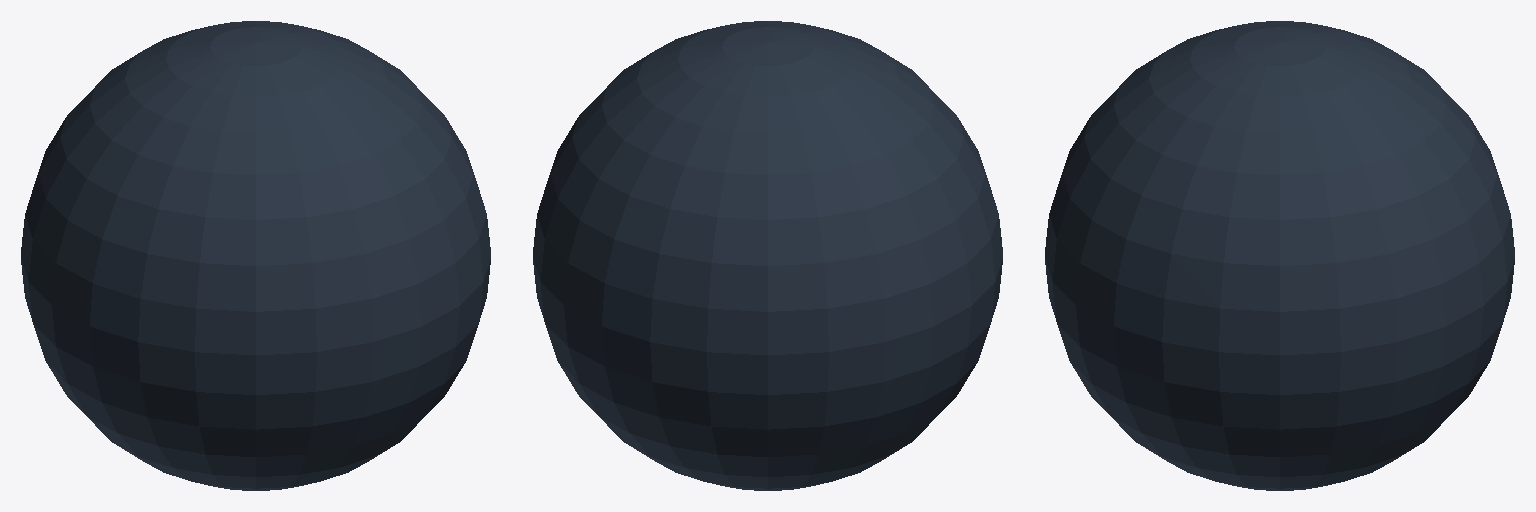
File: earth.obj
The picture shows the model from 3 angles: view 1: azimuth 30°, elevation 25°; view 2: azimuth 150°, elevation 25°; view 3: azimuth 270°, elevation 25°; orthographic projection.
Visible parts, largest first — view 1: Mesh1 sphere01_2_1 skp1DFA1 Model; view 2: Mesh1 sphere01_2_1 skp1DFA1 Model; view 3: Mesh1 sphere01_2_1 skp1DFA1 Model.
Boxes of the visible parts, box(x1,y1,x2,y2) form: Mesh1 sphere01_2_1 skp1DFA1 Model: box(21, 21, 490, 490); Mesh1 sphere01_2_1 skp1DFA1 Model: box(533, 21, 1002, 490); Mesh1 sphere01_2_1 skp1DFA1 Model: box(1045, 21, 1514, 490).
Size of the model in its own units: 12.87 by 12.87 by 12.87.